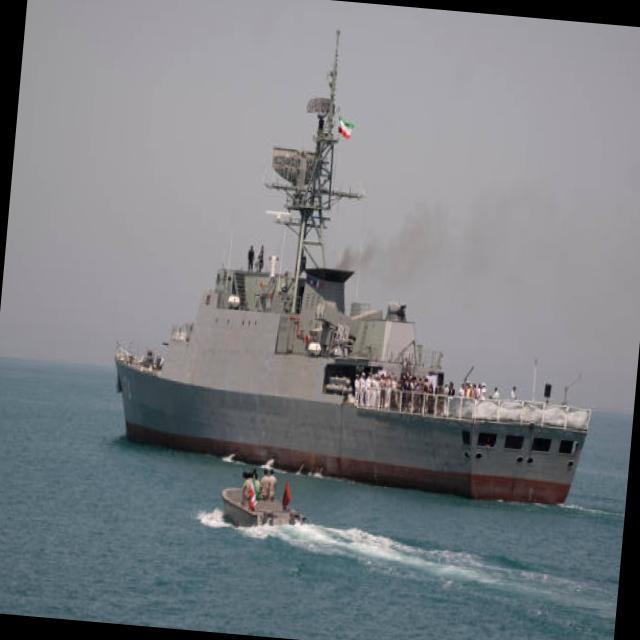Military: (115, 32, 592, 509)
